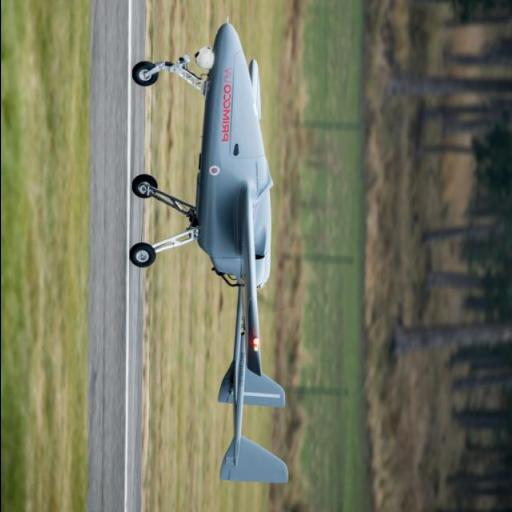uav: (122, 0, 290, 490)
